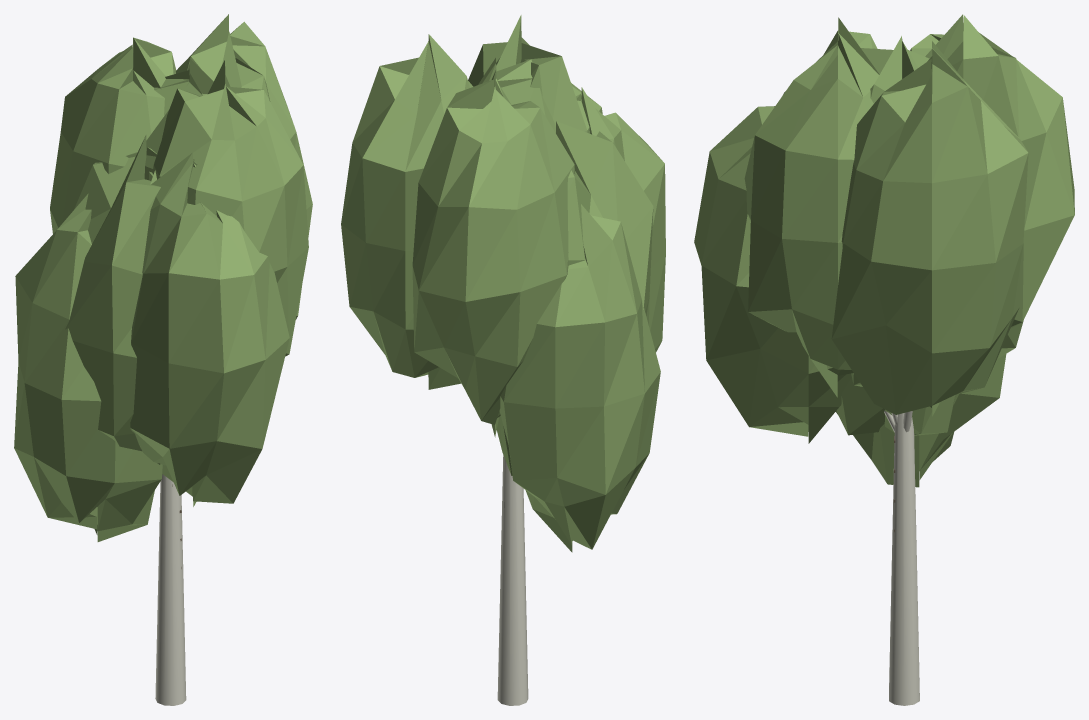
Rendered from birch_tree_variant_01.glb.
The picture shows the model from 3 angles, left to right: view 1: azimuth 30°, elevation 25°; view 2: azimuth 150°, elevation 25°; view 3: azimuth 270°, elevation 25°; orthographic projection. The views are drawn at different scales.
Visible parts, largest first — view 1: static_leaf_light, static_birch_bark; view 2: static_leaf_light, static_birch_bark; view 3: static_leaf_light, static_birch_bark.
Boxes of the visible parts, x1,y1,x2,y2 form: static_leaf_light: (14, 14, 312, 541); static_birch_bark: (155, 474, 186, 705); static_leaf_light: (341, 15, 665, 552); static_birch_bark: (497, 455, 528, 705); static_leaf_light: (694, 14, 1074, 487); static_birch_bark: (884, 410, 919, 705).
Bounding box in the file's own units: 4.21 × 9.39 × 4.66.
